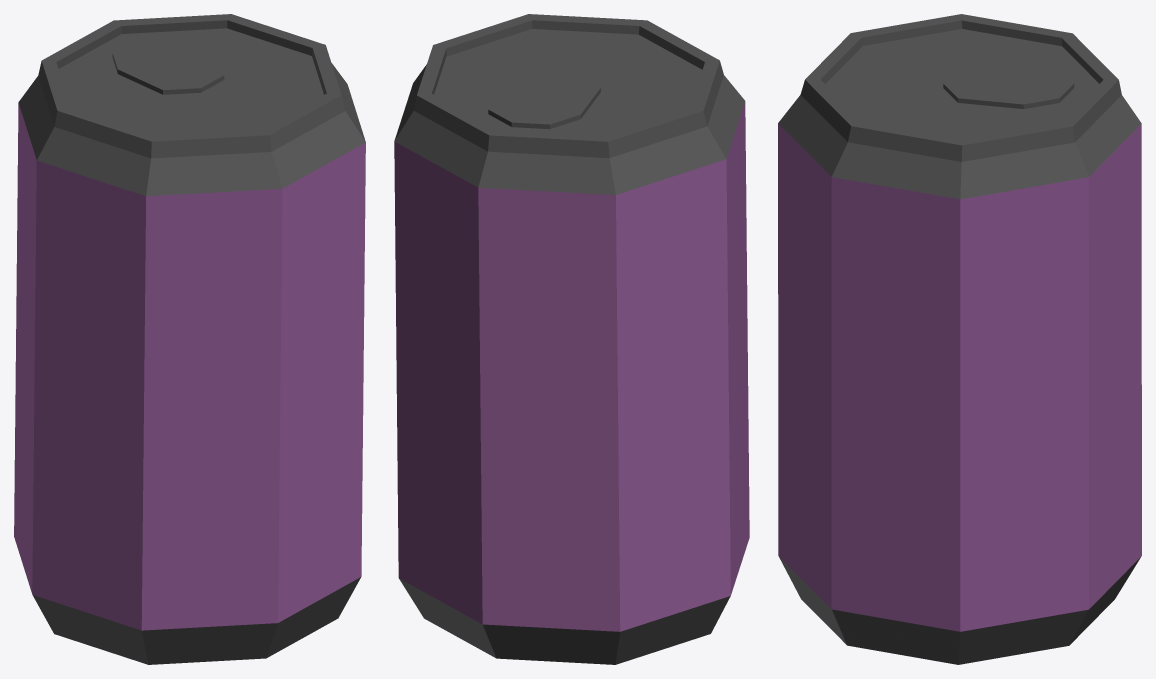
Rendered from Dåse_Lilla.fbx.
The picture shows the model from 3 angles, left to right: view 1: azimuth 30°, elevation 25°; view 2: azimuth 150°, elevation 25°; view 3: azimuth 270°, elevation 25°; orthographic projection.
Parts seen in each view (by area): view 1: Dåse; view 2: Dåse; view 3: Dåse.
Part boxes in pixels (box(x1,y1,x2,y2)): Dåse: box(14, 14, 365, 664); Dåse: box(394, 14, 749, 664); Dåse: box(778, 14, 1141, 664).
Bounding box in the file's own units: 13.61 × 21.46 × 13.55.
